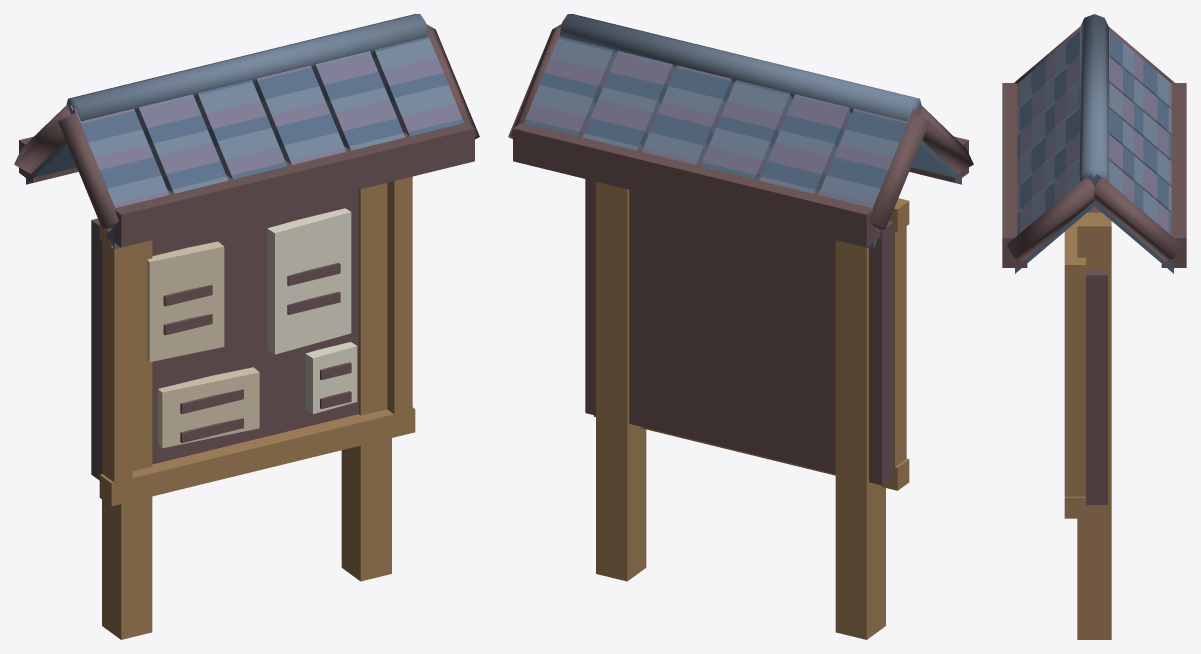
Rendered from notice_board.glb.
3 views of the same model, side by side, from view 1: azimuth 30°, elevation 25°; view 2: azimuth 150°, elevation 25°; view 3: azimuth 270°, elevation 25° (orthographic). The views are drawn at different scales.
Parts seen in each view (by area): view 1: Notice_board_back, Notice_board_eave_fascia, Notice_board_post.001, Notice_board_post, Notice_board_paper.001, Notice_board_border.002, Notice_board_roof_ridge, Notice_board_border, Notice_board_paper, Notice_board_border.001, Notice_board_paper.002, Notice_board_paper.003 (+36 smaller); view 2: Notice_board_back, Notice_board_post, Notice_board_post.001, Notice_board_eave_fascia.001, Notice_board_roof_ridge, Notice_board_border, Notice_board_gable_roof_edge.003, Notice_board_gable_roof_edge.002, Notice_board_handlaid_slate.048, Notice_board_handlaid_slate.051, Notice_board_handlaid_slate.069, Notice_board_handlaid_slate.066 (+29 smaller); view 3: Notice_board_post.001, Notice_board_back, Notice_board_border.001, Notice_board_roof_ridge, Notice_board_eave_fascia, Notice_board_eave_fascia.001, Notice_board_gable_roof_edge, Notice_board_gable_roof_edge.001, Notice_board_border.003, Notice_board_thick_slate_slope.001, Notice_board_border.002, Notice_board_thick_slate_slope (+46 smaller).
Boxes of the visible parts, bbox=[...] form: Notice_board_back: bbox=[91, 190, 358, 480]; Notice_board_eave_fascia: bbox=[107, 123, 474, 247]; Notice_board_post.001: bbox=[341, 183, 391, 581]; Notice_board_post: bbox=[102, 240, 152, 639]; Notice_board_paper.001: bbox=[267, 208, 351, 354]; Notice_board_border.002: bbox=[99, 407, 415, 506]; Notice_board_roof_ridge: bbox=[66, 14, 428, 121]; Notice_board_border: bbox=[102, 242, 132, 492]; Notice_board_paper: bbox=[147, 241, 224, 361]; Notice_board_border.001: bbox=[387, 176, 412, 426]; Notice_board_paper.002: bbox=[158, 367, 259, 448]; Notice_board_paper.003: bbox=[305, 342, 357, 413]; Notice_board_back: bbox=[585, 179, 893, 485]; Notice_board_post: bbox=[835, 240, 885, 639]; Notice_board_post.001: bbox=[596, 181, 646, 581]; Notice_board_eave_fascia.001: bbox=[513, 123, 880, 247]; Notice_board_roof_ridge: bbox=[559, 14, 921, 121]; Notice_board_border: bbox=[889, 218, 906, 479]; Notice_board_gable_roof_edge.003: bbox=[869, 113, 929, 231]; Notice_board_gable_roof_edge.002: bbox=[917, 106, 973, 173]; Notice_board_handlaid_slate.048: bbox=[550, 39, 615, 73]; Notice_board_handlaid_slate.051: bbox=[727, 82, 792, 117]; Notice_board_handlaid_slate.069: bbox=[708, 128, 773, 163]; Notice_board_handlaid_slate.066: bbox=[532, 85, 596, 120]; Notice_board_post.001: bbox=[1077, 212, 1111, 639]; Notice_board_back: bbox=[1086, 206, 1107, 504]; Notice_board_border.001: bbox=[1064, 285, 1085, 496]; Notice_board_roof_ridge: bbox=[1080, 14, 1108, 180]; Notice_board_eave_fascia: bbox=[1002, 83, 1027, 267]; Notice_board_eave_fascia.001: bbox=[1161, 83, 1186, 267]; Notice_board_gable_roof_edge: bbox=[1006, 177, 1094, 261]; Notice_board_gable_roof_edge.001: bbox=[1094, 177, 1182, 261]; Notice_board_border.003: bbox=[1064, 221, 1085, 285]; Notice_board_thick_slate_slope.001: bbox=[1094, 201, 1173, 273]; Notice_board_border.002: bbox=[1064, 496, 1085, 518]; Notice_board_thick_slate_slope: bbox=[1015, 201, 1094, 273].
Bounding box in the file's own units: 2.05 × 2.82 × 0.96.
